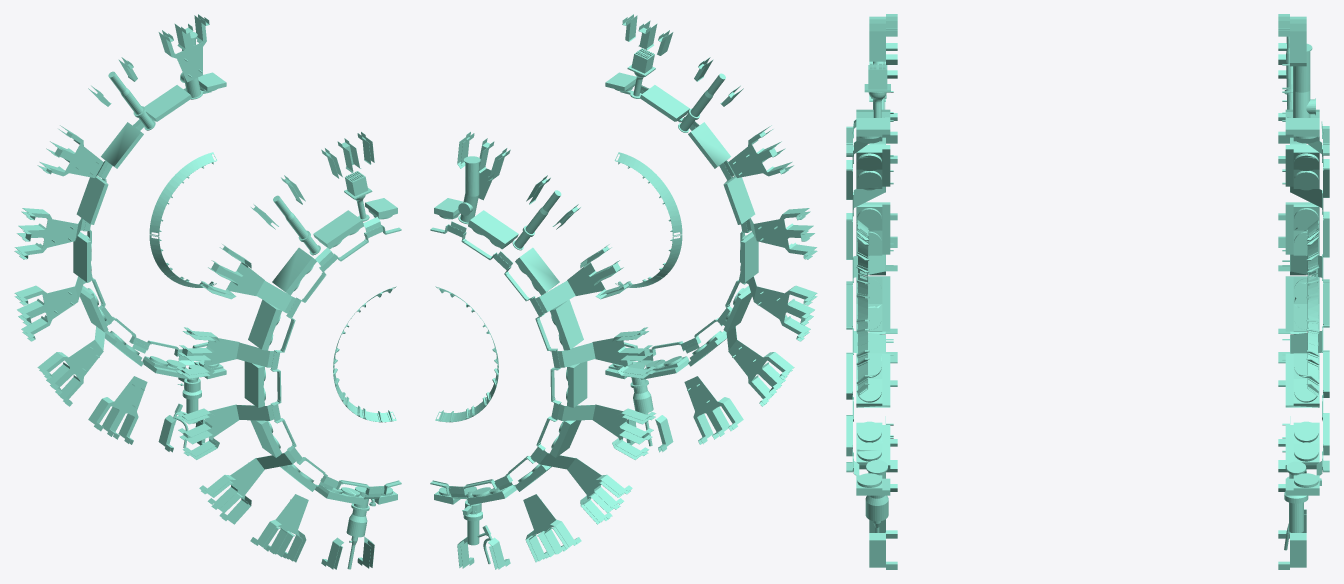
The model's file is Gap-region-serv-cut2.glb.
3 views of the same model, side by side, from view 1: azimuth 30°, elevation 25°; view 2: azimuth 150°, elevation 25°; view 3: azimuth 270°, elevation 25° (orthographic). The views are drawn at different scales.
Visible parts, largest first — view 1: cabl tray.001, el box.001, inlet outlet.001, Lar Drin.001, Lar Pump.001, The Unnit.001; view 2: cabl tray.001, el box.001, inlet outlet.001, Safety Line.001, Lar Pump.001, Lar Drin.001, The Unnit.001; view 3: el box.001, cabl tray.001, Safety Line.001, Lar Pump.001, Lar Drin.001, The Unnit.001.
Boxes of the visible parts, box(x1,y1,x2,y2) form: cabl tray.001: box(14, 14, 401, 569); el box.001: box(73, 72, 397, 505); inlet outlet.001: box(108, 71, 320, 255); Lar Drin.001: box(346, 486, 375, 569); Lar Pump.001: box(173, 364, 202, 448); The Unnit.001: box(344, 171, 372, 221); cabl tray.001: box(430, 14, 817, 569); el box.001: box(434, 72, 758, 505); inlet outlet.001: box(512, 73, 725, 250); Safety Line.001: box(458, 156, 480, 224); Lar Pump.001: box(462, 486, 492, 564); Lar Drin.001: box(628, 363, 653, 446); The Unnit.001: box(627, 48, 655, 98); el box.001: box(856, 109, 1319, 495); cabl tray.001: box(846, 14, 1329, 569); Safety Line.001: box(1293, 43, 1315, 117); Lar Pump.001: box(1284, 461, 1321, 550); Lar Drin.001: box(865, 460, 888, 532); The Unnit.001: box(864, 63, 890, 117).
Size of the model in its own units: 4.32 by 8.64 by 7.01.
